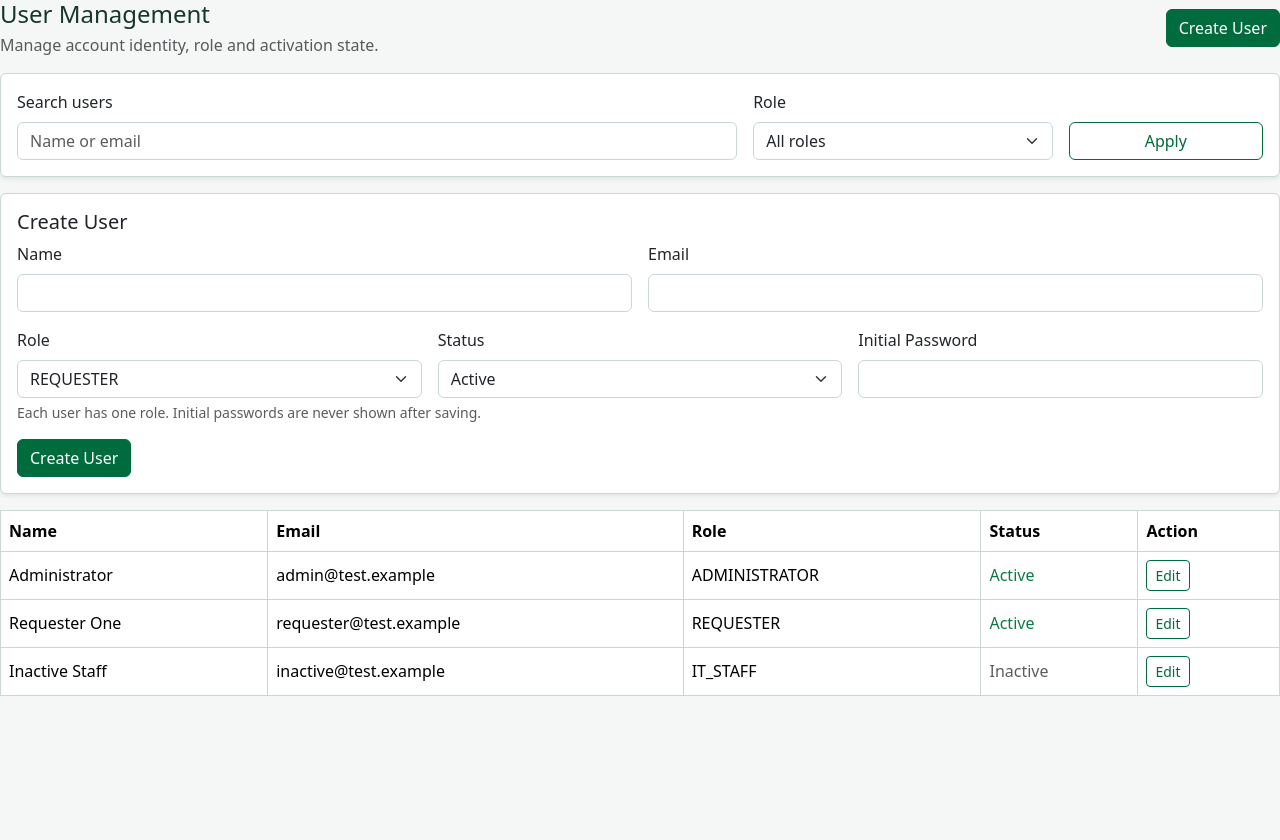
Administrator User Management › edits a user and resets the initial password
The width and height of the screenshot is (1280, 840).
Expected: the text "Requester One" is shown, [0,599,268,647]
Click the button "Edit" in the row of "Requester One".
click(1168, 623)  # box [1146,608,1190,639]
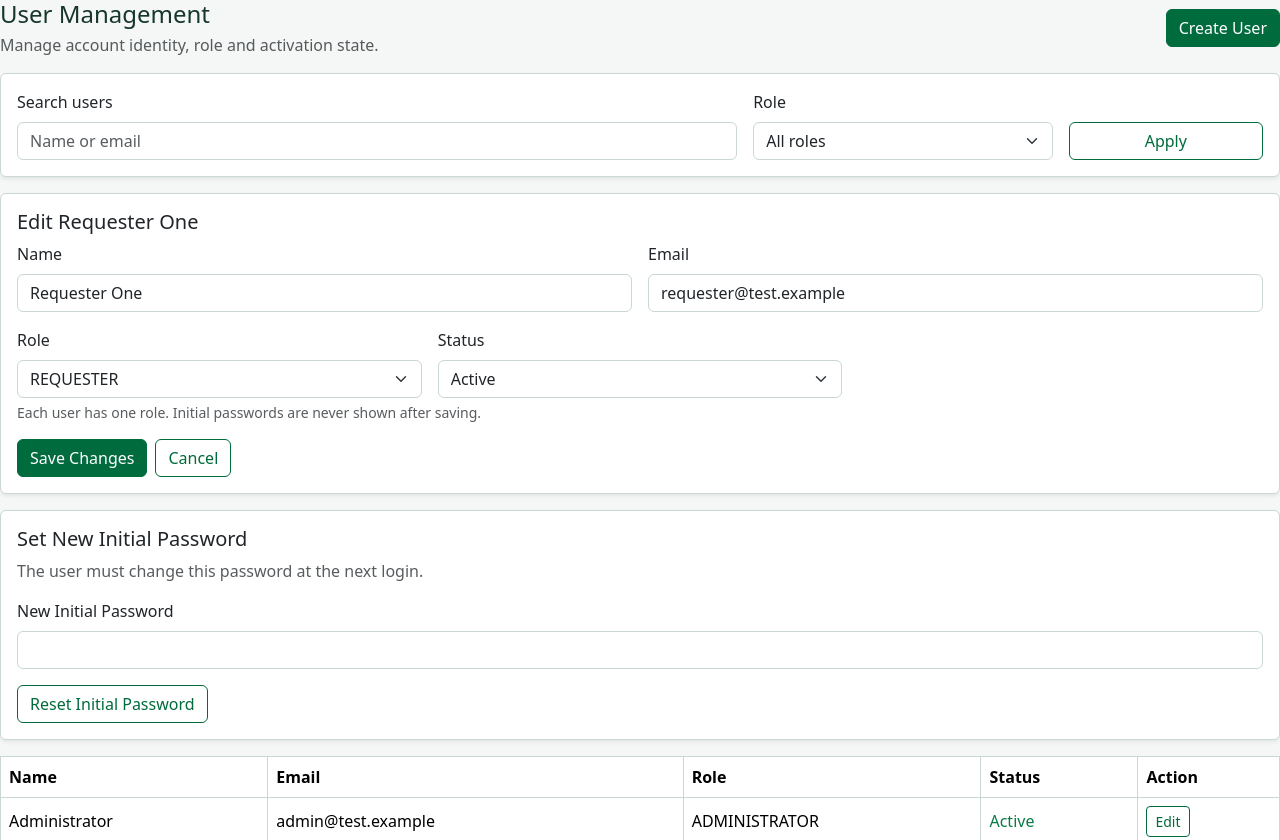
Replace the text in the field labelled "Name" with "Updated Requester" at (324, 293), box [17,274,632,312]
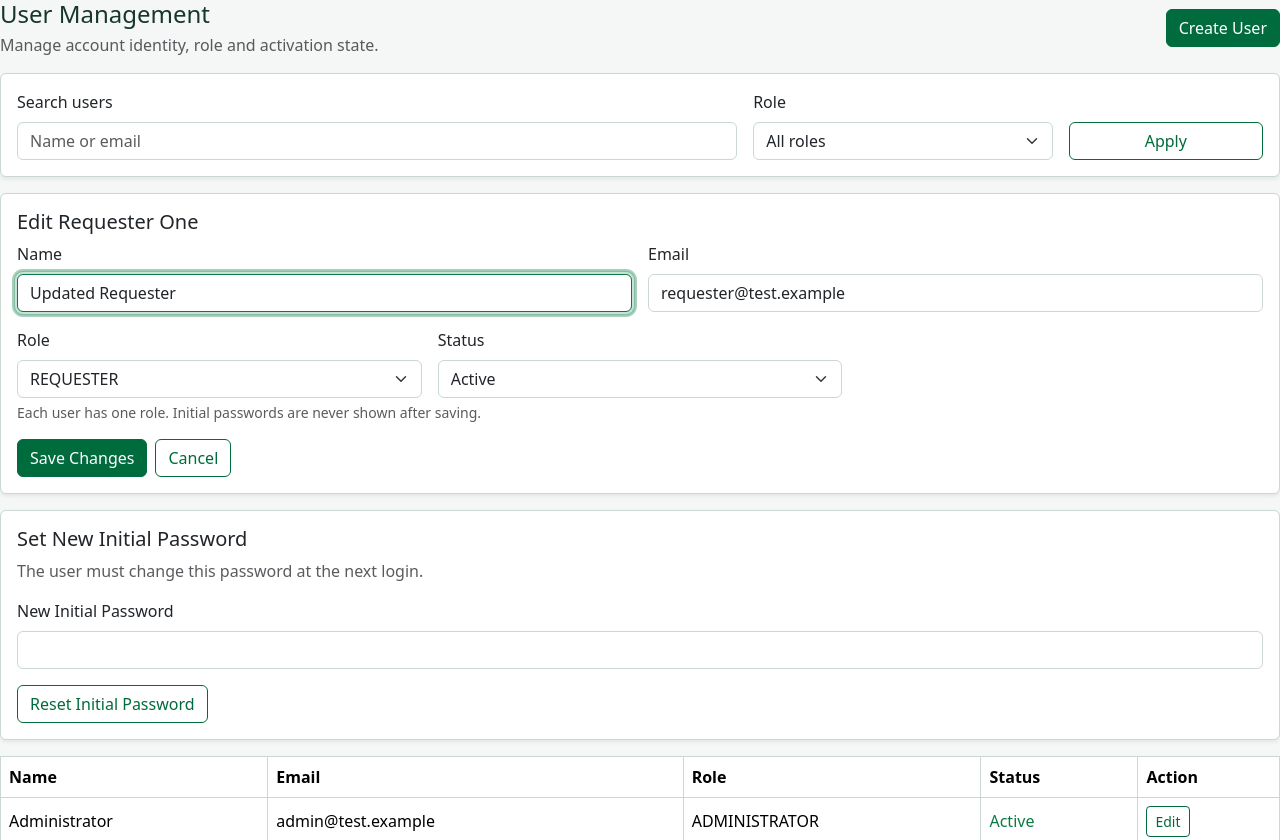
Click the button "Save Changes".
click(82, 458)  # box [17,439,148,477]
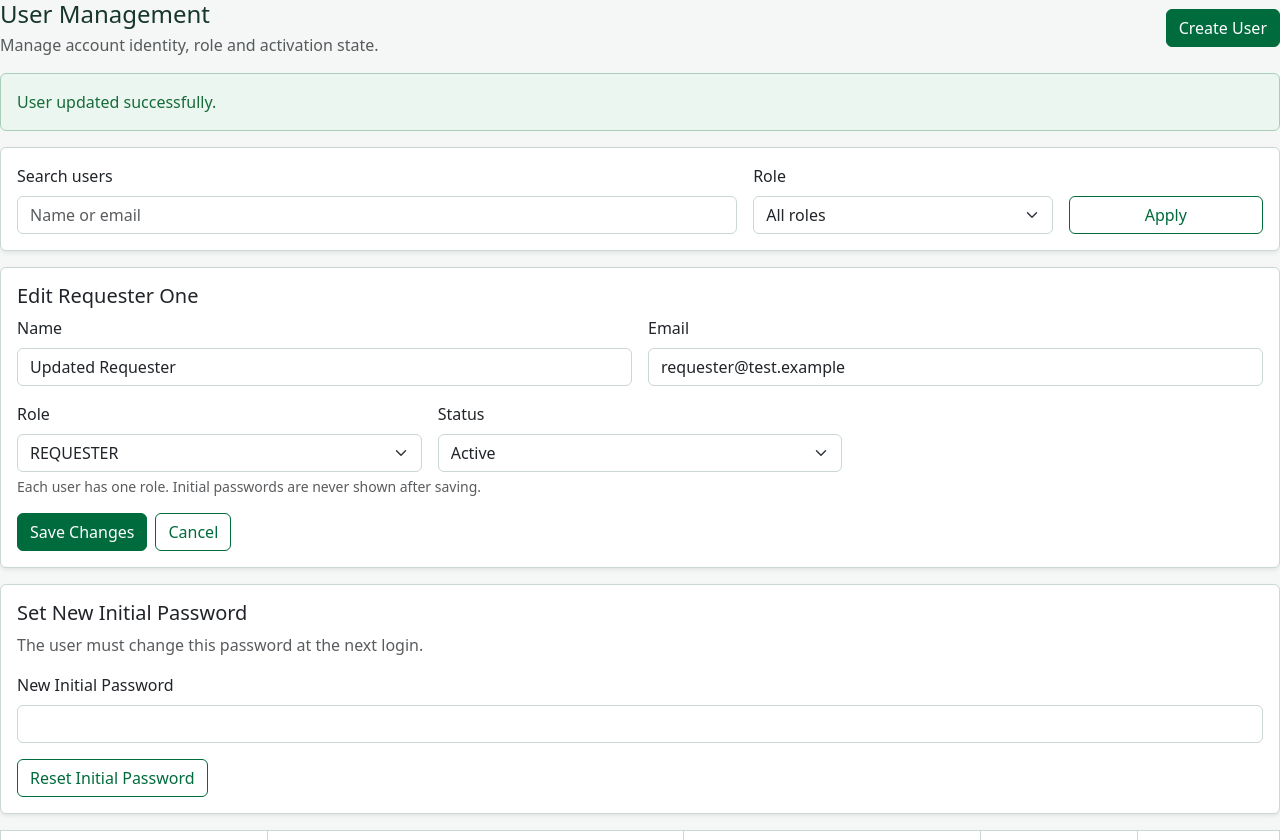
Expected: the text "User updated successfully." is shown, [0,73,1279,131]
Type "Changed-Password2@" into the password field labelled "New Initial Password".
click(640, 724); type("Changed-Password2@")  # box [17,705,1263,743]
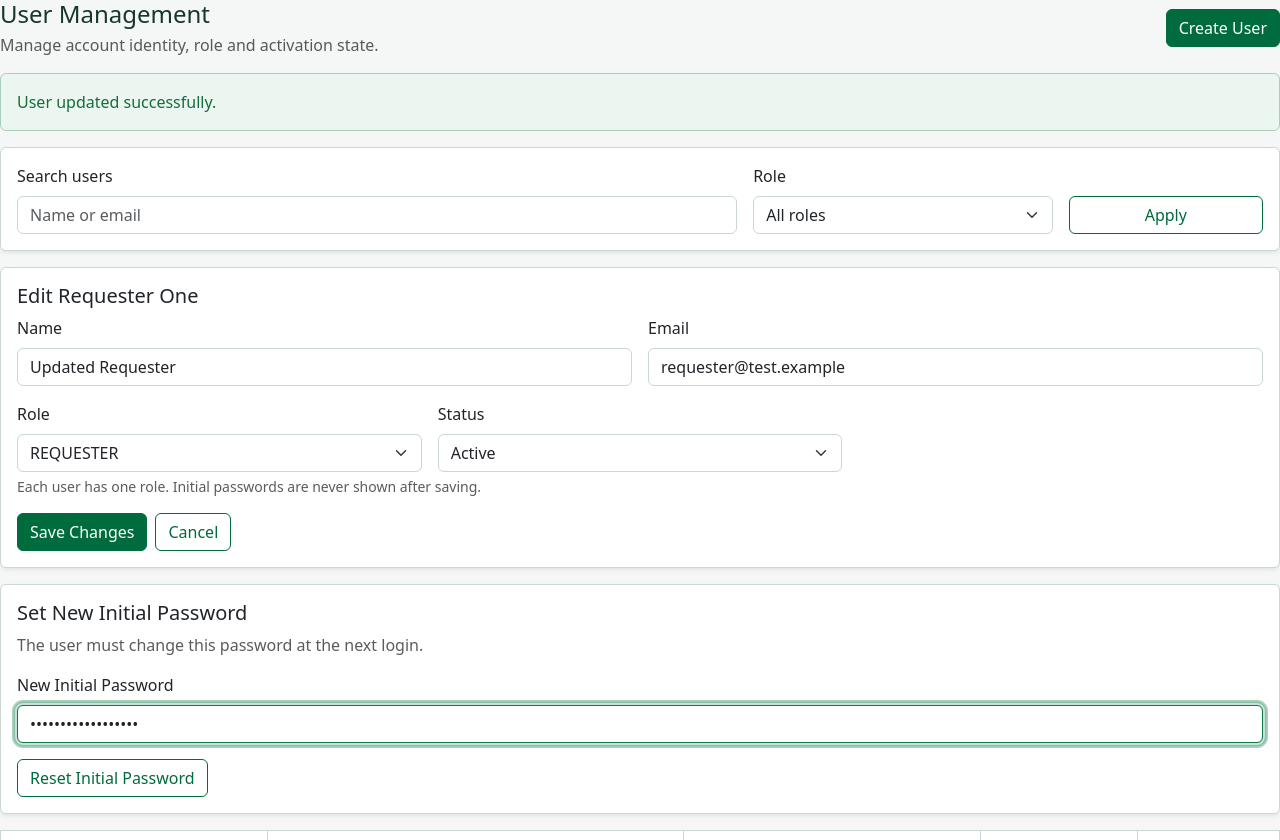
Click the button "Reset Initial Password".
click(112, 778)  # box [17,759,208,797]
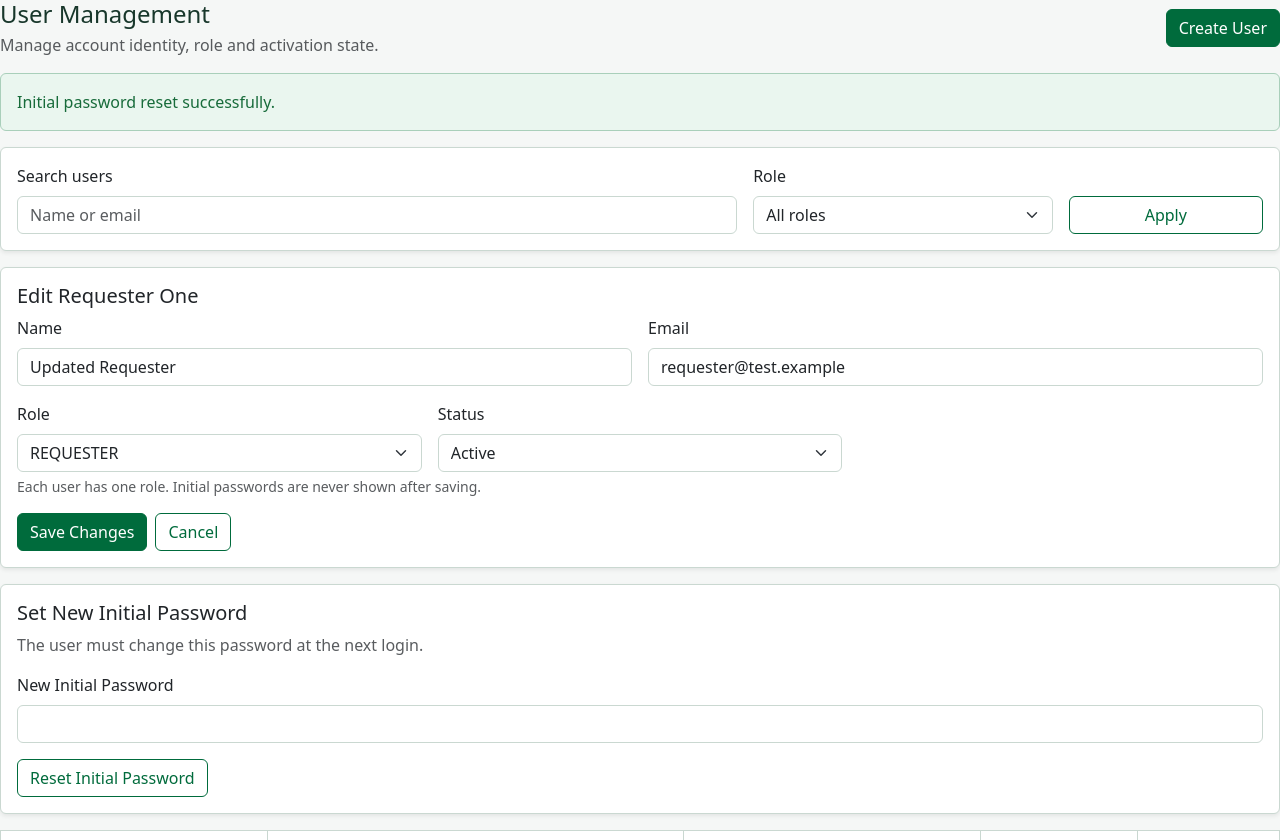
Expected: the text "Initial password reset successfully." is shown, [0,73,1279,131]
